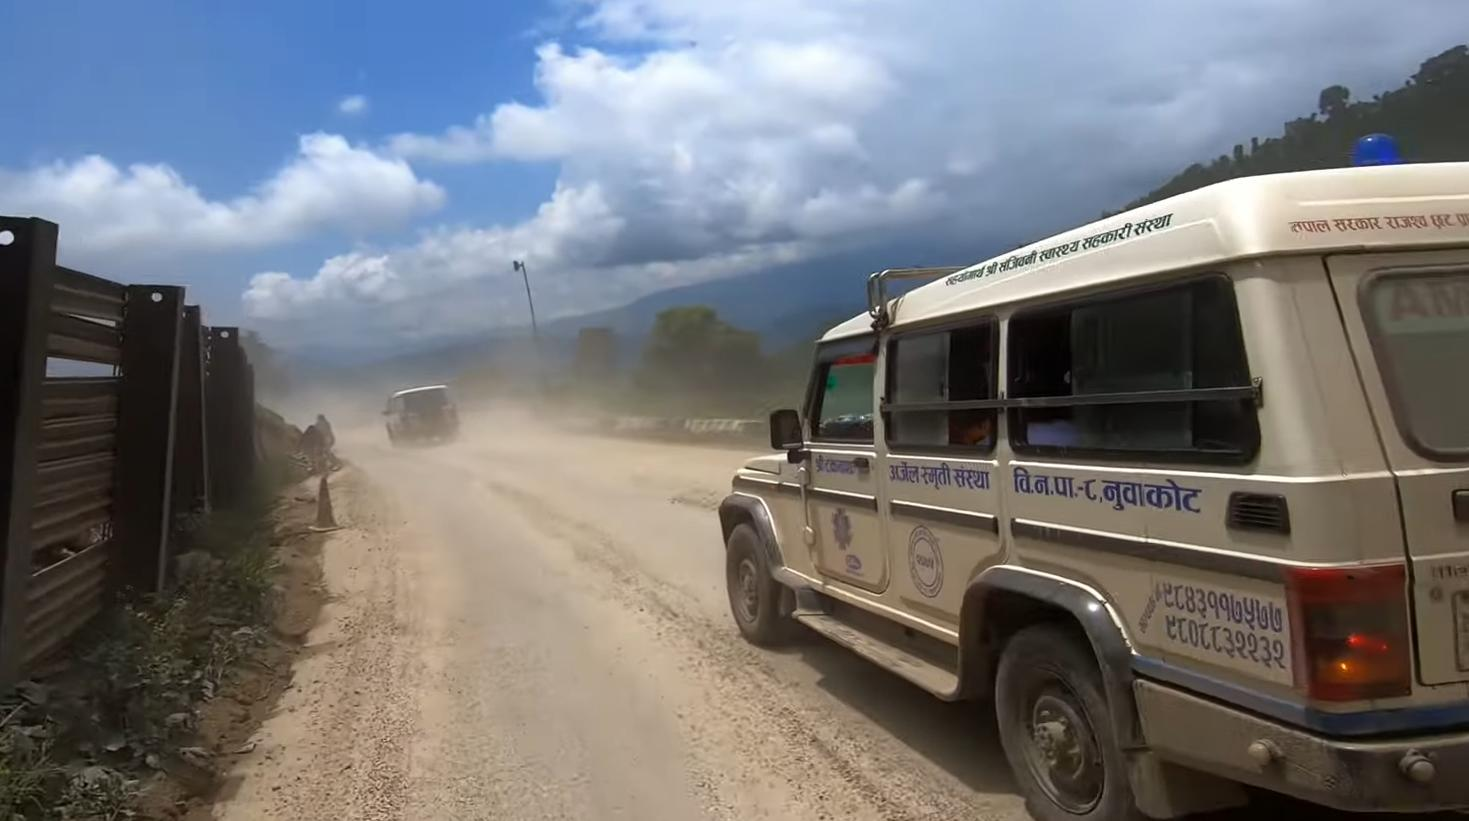ambulance: (702, 127, 1469, 821)
